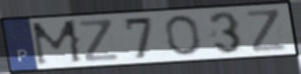3: (206, 10, 245, 56)
7: (122, 17, 157, 61)
M: (29, 18, 86, 68)
O: (163, 14, 204, 57)
Z: (76, 17, 123, 64), (244, 7, 290, 54)
